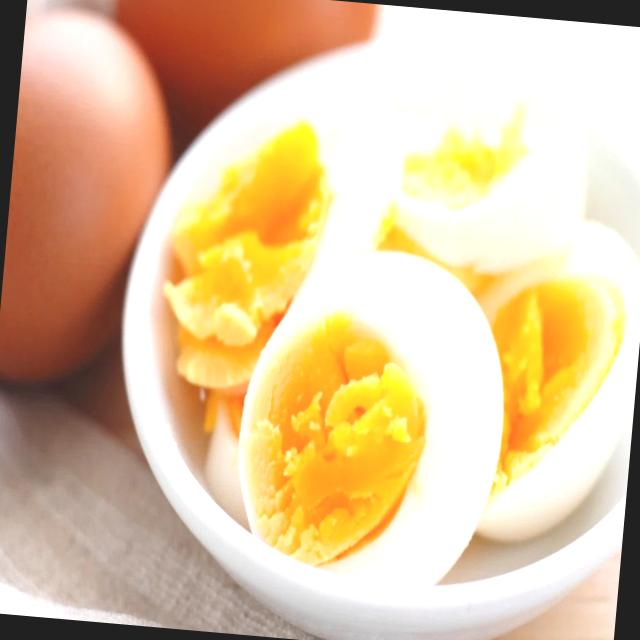trung luoc: (164, 80, 640, 539), (237, 253, 502, 585)
